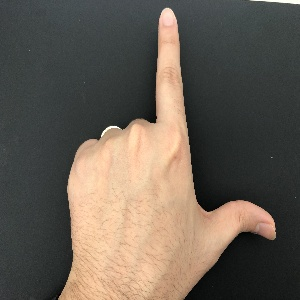hand: (67, 7, 276, 281)
